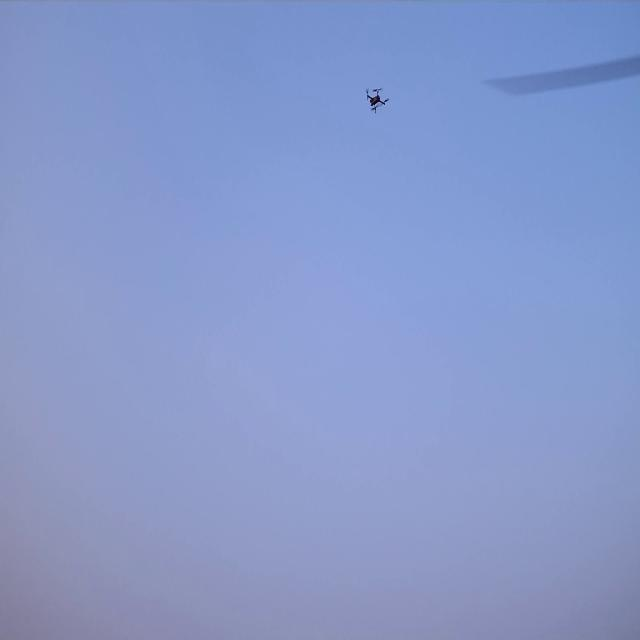UAV: (367, 89, 387, 113)
